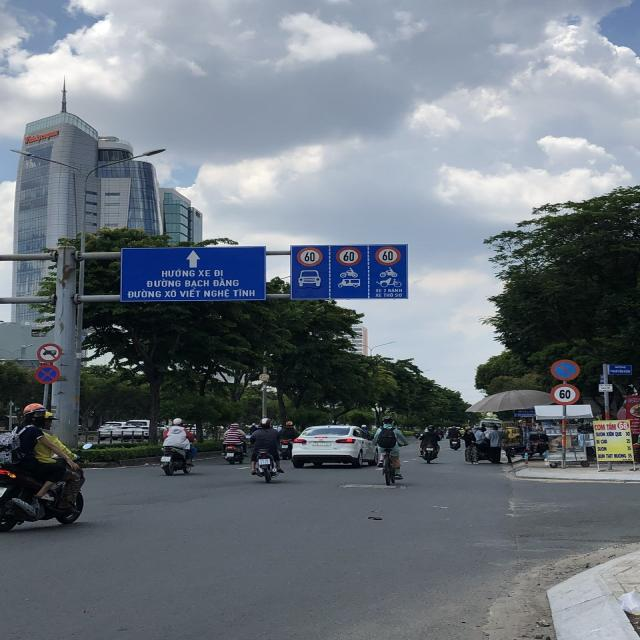Bien bao cam do xe: (545, 356, 581, 381)
Bien bao cam dung xe va do xe: (33, 361, 61, 387)
Bien bao cam xe oto tai: (34, 340, 62, 362)
Bien bao toc do toi da cho phep: (548, 383, 584, 405), (293, 245, 325, 267), (333, 243, 362, 267), (372, 243, 402, 266)
